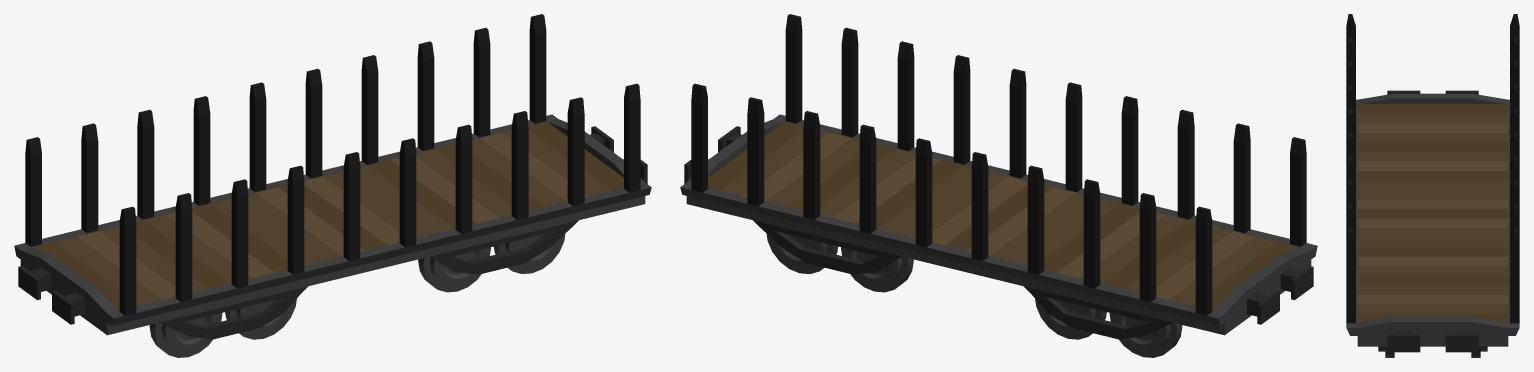
File: logcar.fbx
3 renders of one model, left to right at view 1: azimuth 30°, elevation 25°; view 2: azimuth 150°, elevation 25°; view 3: azimuth 270°, elevation 25°, orthographic. The views are drawn at different scales.
Visible parts, largest first — view 1: logcar; view 2: logcar; view 3: logcar.
Boxes of the visible parts, x1,y1,x2,y2 form: logcar: (14,14,651,357); logcar: (680,14,1317,357); logcar: (1346,14,1519,357).
Bounding box in the file's own units: 873 × 264 × 261.
